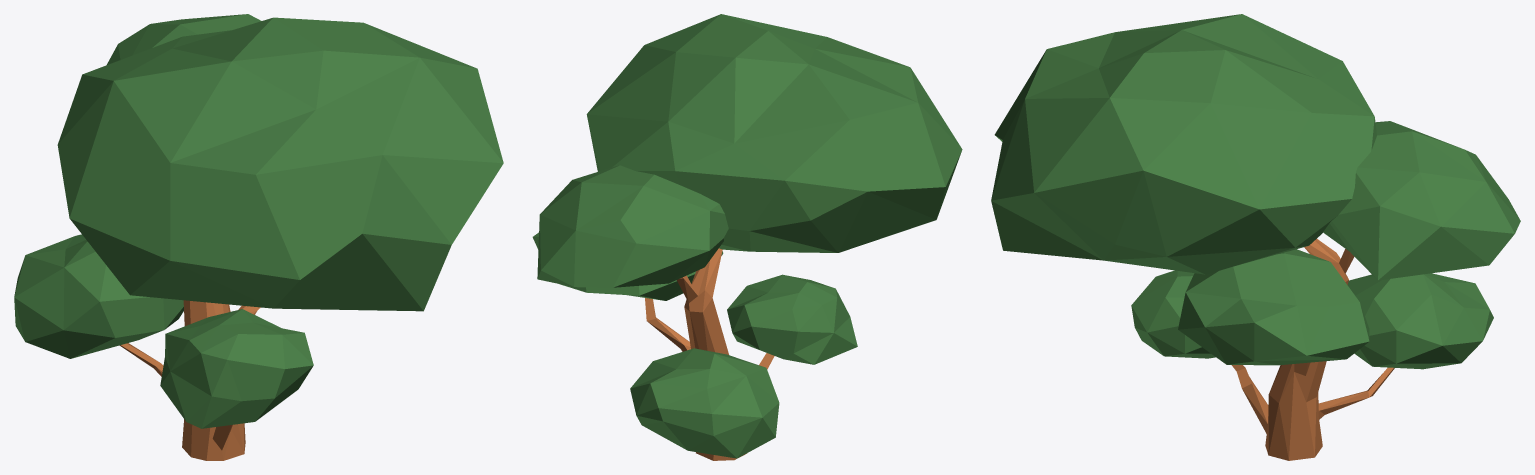
The model's file is bush03.gltf.
3 views of the same model, side by side, from view 1: azimuth 30°, elevation 25°; view 2: azimuth 150°, elevation 25°; view 3: azimuth 270°, elevation 25° (orthographic). The views are drawn at different scales.
Visible parts, largest first — view 1: Cylinder; view 2: Cylinder; view 3: Cylinder.
Part boxes in pixels (box(x1,y1,x2,y2)): Cylinder: box(14, 14, 503, 460); Cylinder: box(532, 14, 962, 460); Cylinder: box(991, 14, 1520, 460).
Bounding box in the file's own units: 0.9935 × 0.9815 × 1.16.
1 material, 1 textured.
